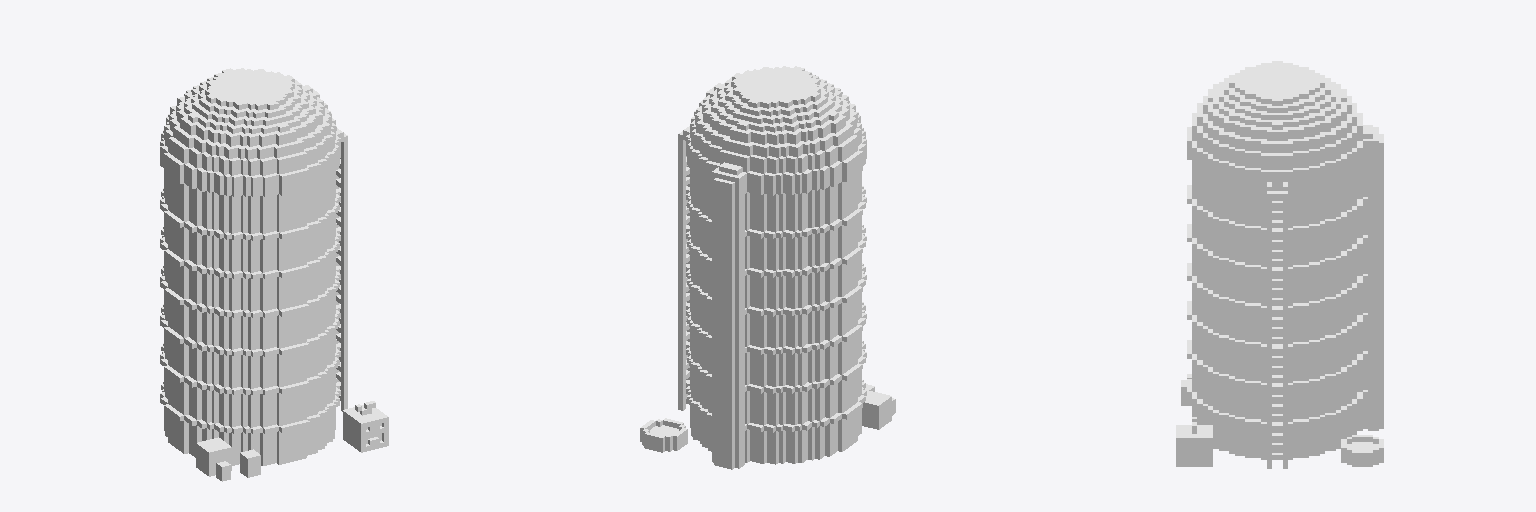
The model's file is cilo.obj.
3 renders of one model, left to right at view 1: azimuth 30°, elevation 25°; view 2: azimuth 150°, elevation 25°; view 3: azimuth 270°, elevation 25°, orthographic.
Parts seen in each view (by area): view 1: object 1; view 2: object 1; view 3: object 1.
Boxes of the visible parts, box(x1,y1,x2,y2) form: object 1: box(160, 68, 388, 481); object 1: box(640, 66, 895, 469); object 1: box(1176, 61, 1383, 468).
Bounding box in the file's own units: 3.7 × 7.1 × 3.9.